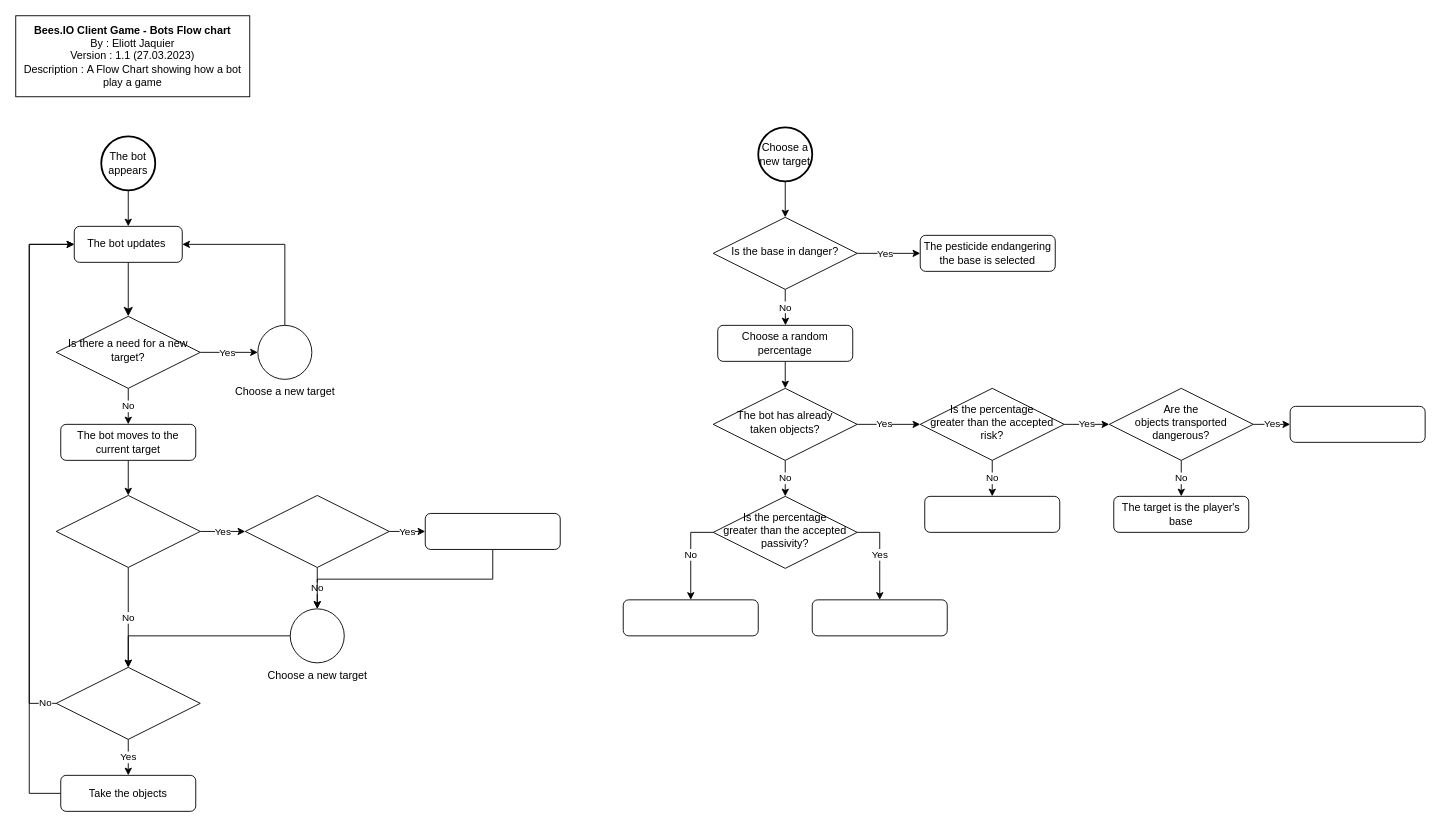
Image size: 1441x827. Some labels were removed from this diagram. The shapes that lost their labels are listed below. From the top down, each one's centre as x and y in pixels, then its label:
At (1357,423): "The target is an enemy base".
At (127,531): "Is the bot close enough to the target?".
At (316,531): "Is the target a base?".
At (492,531): "Drop the objects".
At (992,513): "The target is another element of the same type".
At (690,617): "The target becomes a nearby pollen".
At (879,617): "The target becomes a nearby pesticide".
At (127,702): "Are there any compatible objects to take?".
